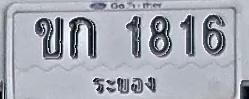1: (126, 15, 142, 58), (180, 14, 195, 56)
6: (203, 14, 225, 55)
8: (149, 15, 172, 57)
A01: (69, 16, 96, 59)
A02: (35, 16, 64, 59)
RYG: (89, 73, 160, 98)
